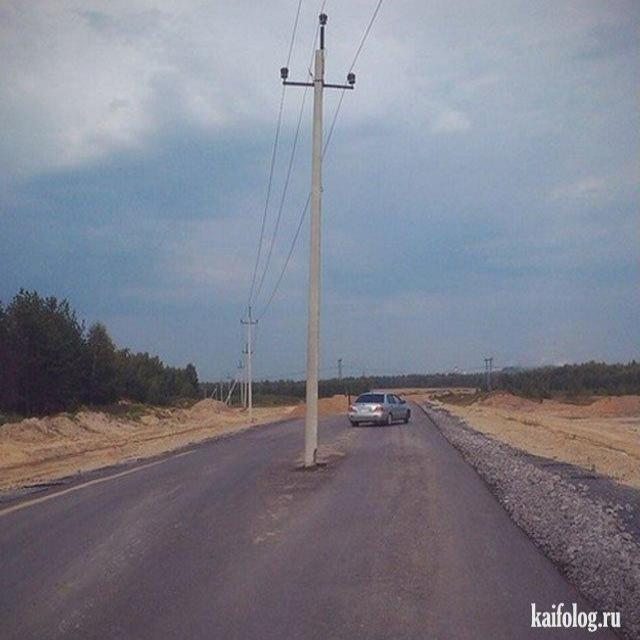pole: (303, 146, 327, 466)
